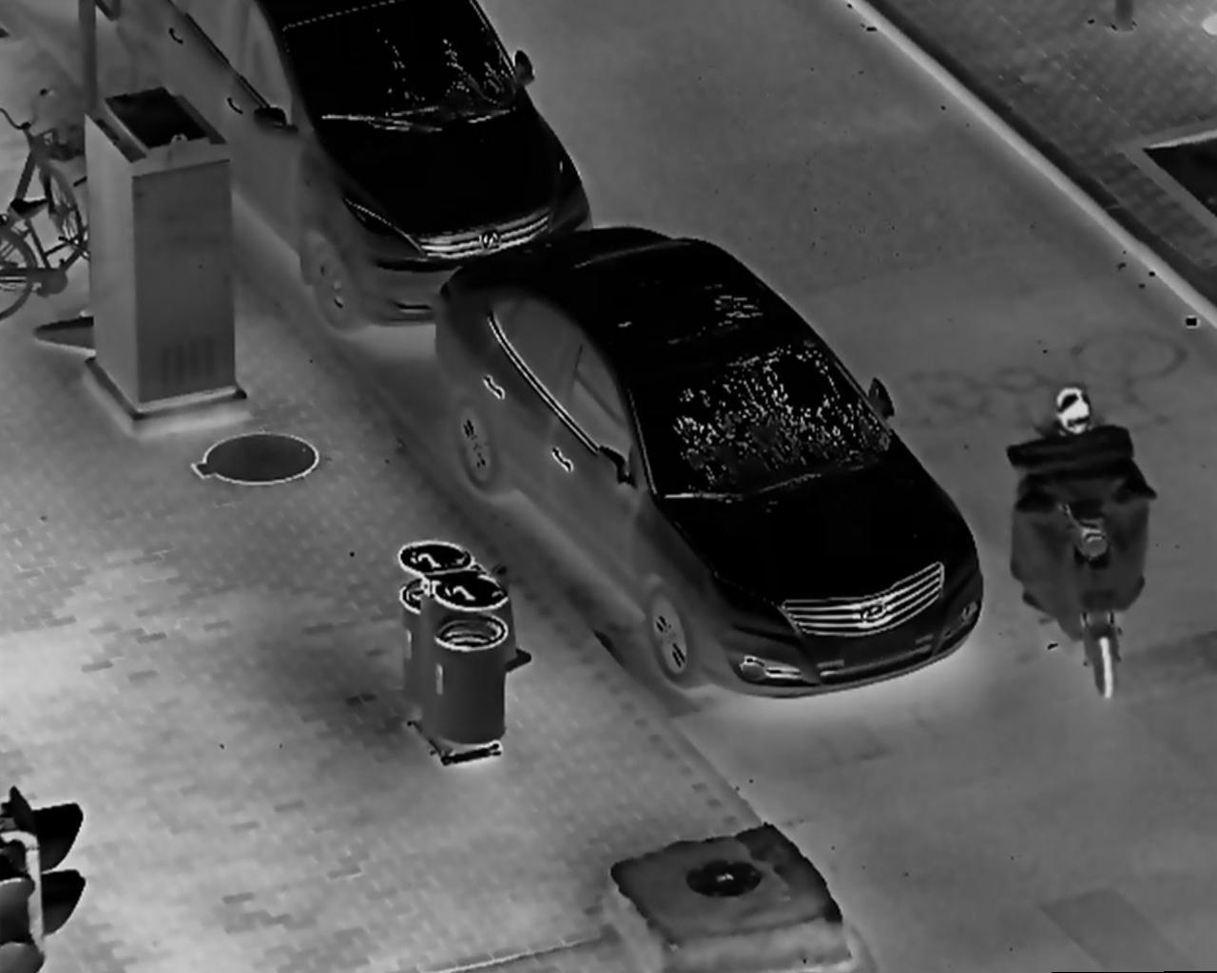person: (1038, 386, 1126, 588)
